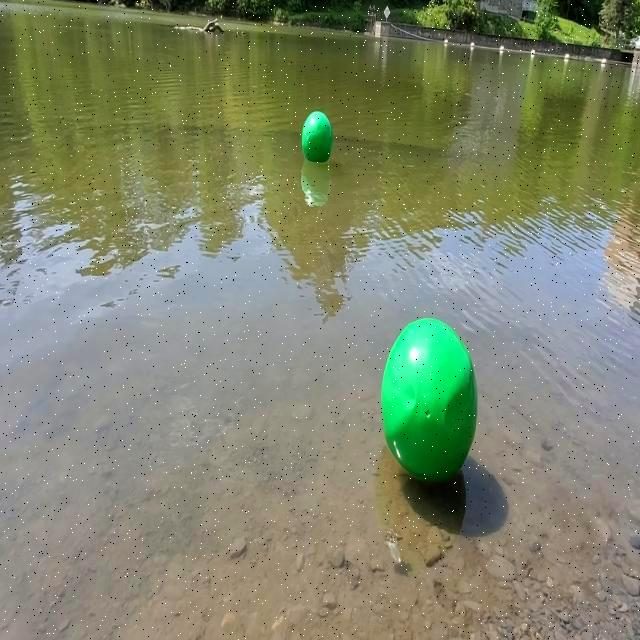buoy: (382, 312, 479, 486), (300, 110, 334, 164)
